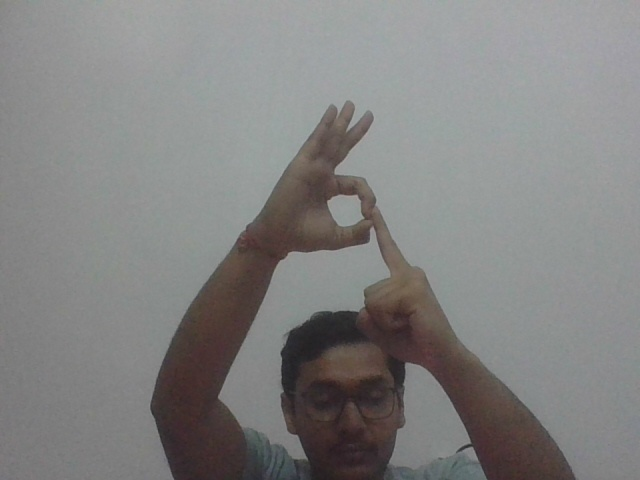P: (274, 90, 449, 317)
